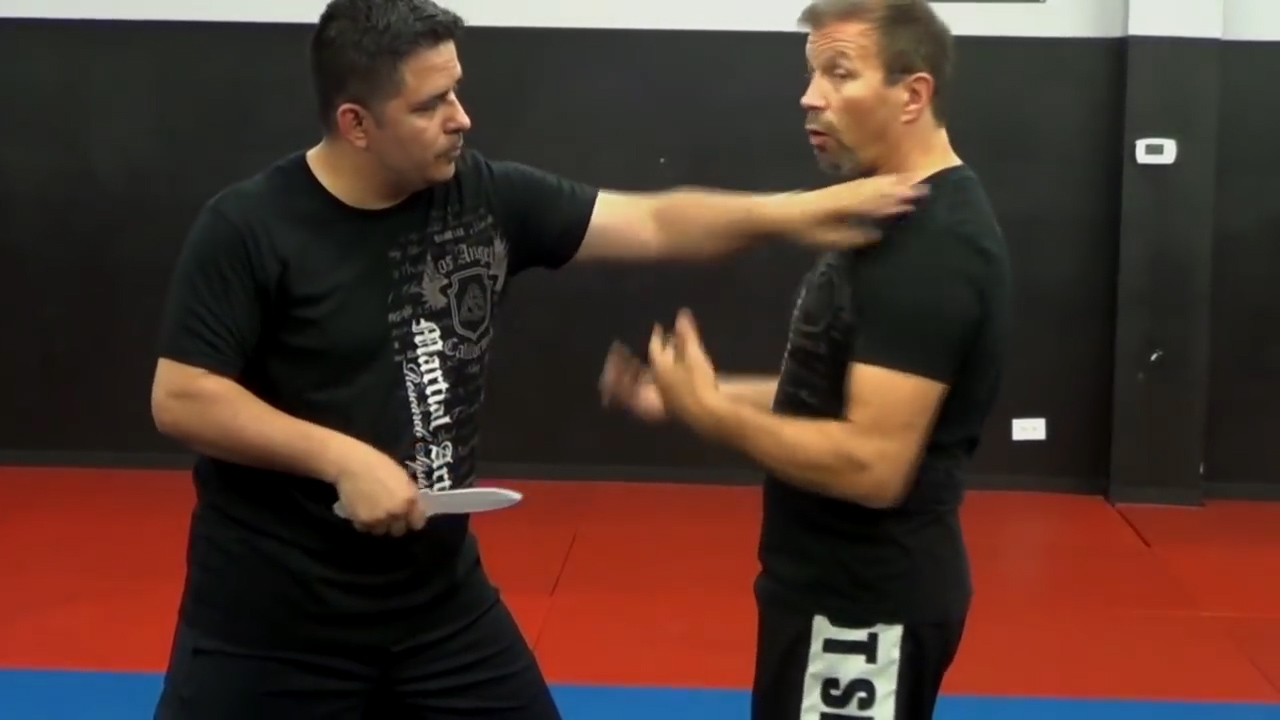knife: (327, 476, 530, 538)
